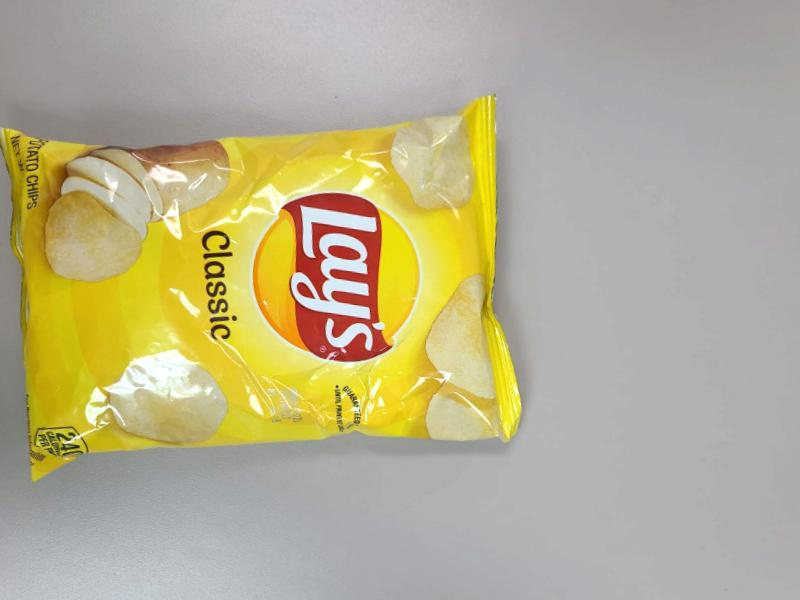lays: (48, 106, 514, 460)
